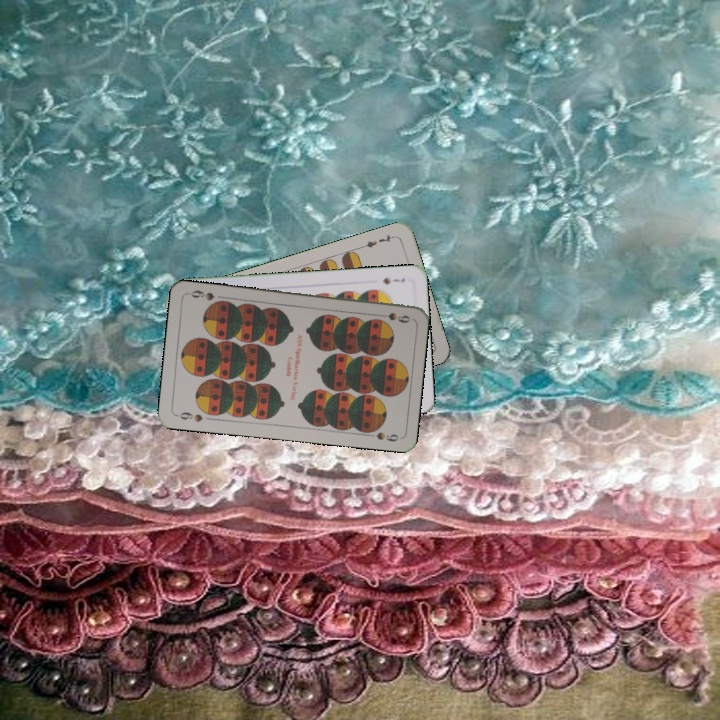E7: (358, 231, 398, 250)
S7: (379, 273, 407, 287)
S9: (372, 309, 413, 325), (172, 408, 205, 425)
